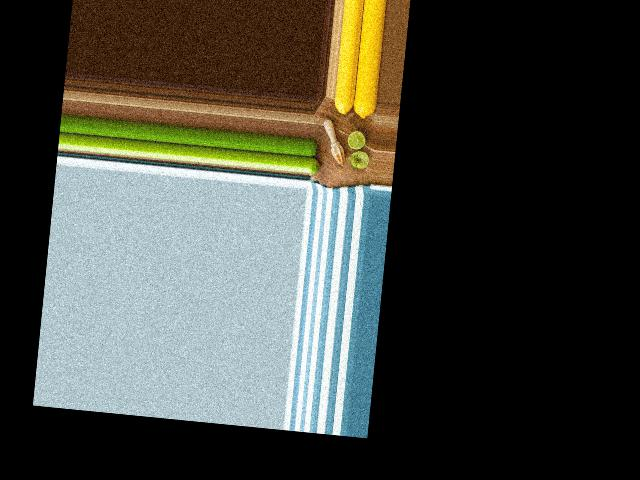lemon: (349, 99, 378, 122)
